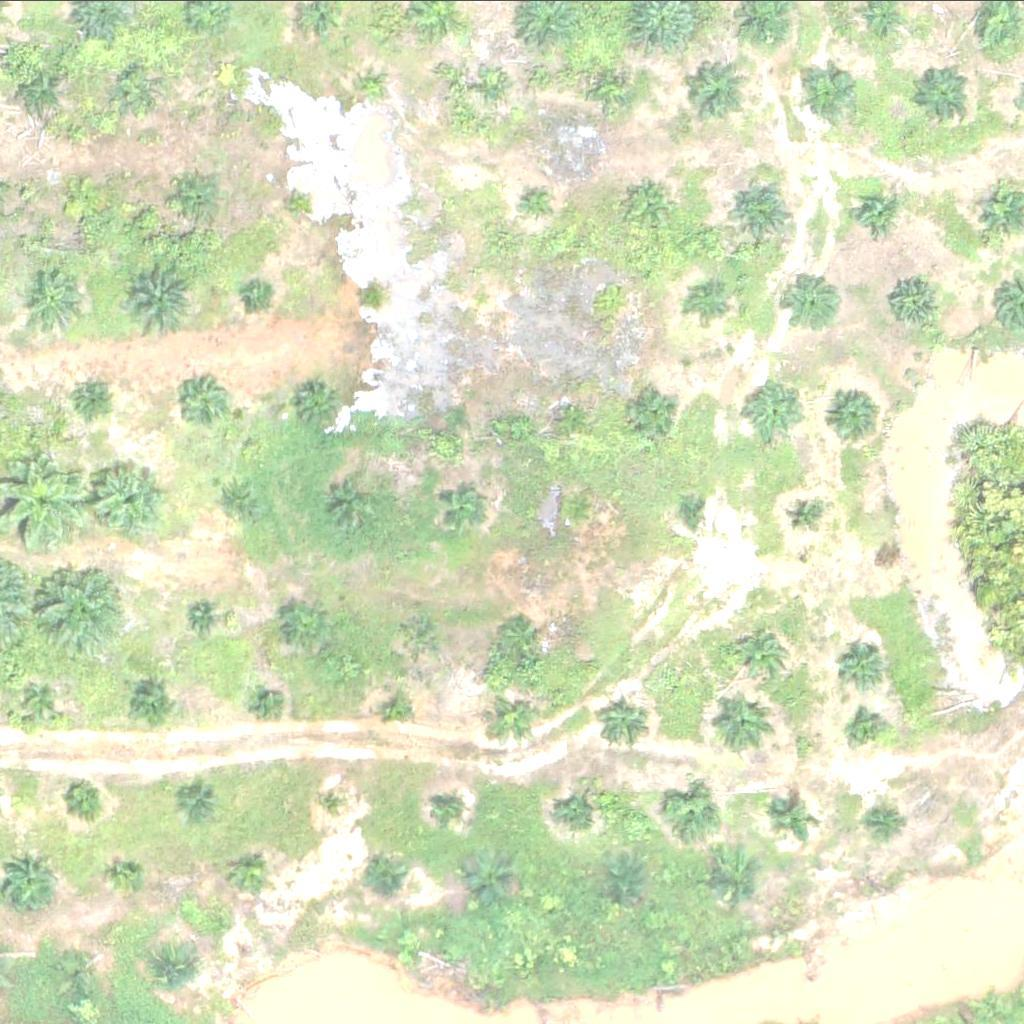Kelapa_Sawit: (86, 455, 174, 543), (35, 564, 123, 652), (122, 262, 198, 337), (683, 62, 746, 125), (729, 177, 792, 240), (730, 623, 793, 686), (24, 267, 87, 329), (826, 384, 889, 446), (744, 380, 807, 442), (1, 851, 64, 913), (712, 690, 775, 752), (495, 606, 546, 656), (788, 276, 839, 326), (889, 279, 940, 329), (853, 188, 904, 238), (625, 386, 676, 436), (15, 62, 66, 112), (109, 61, 160, 111), (55, 173, 106, 223), (489, 693, 540, 743), (228, 847, 279, 897), (808, 64, 858, 114), (918, 68, 968, 118), (176, 167, 226, 217), (560, 785, 610, 835), (669, 787, 719, 837), (602, 698, 652, 748), (838, 638, 888, 688), (182, 378, 232, 428), (296, 375, 346, 425), (435, 478, 485, 528), (328, 478, 378, 528), (214, 471, 264, 521), (284, 598, 334, 648), (124, 679, 174, 729), (468, 851, 518, 901), (15, 676, 65, 726), (719, 849, 769, 899), (694, 285, 732, 323), (774, 800, 812, 838), (865, 799, 903, 837), (848, 712, 886, 750), (369, 859, 407, 897), (637, 181, 675, 218), (785, 494, 823, 531), (561, 489, 598, 527), (406, 615, 443, 653), (113, 856, 150, 894), (607, 860, 645, 897), (59, 949, 96, 987), (61, 777, 99, 814), (555, 397, 593, 434), (185, 781, 222, 818), (157, 949, 194, 986), (245, 283, 271, 308), (601, 71, 627, 96), (356, 78, 381, 103), (484, 73, 509, 98), (527, 190, 552, 215), (283, 190, 308, 215), (682, 500, 707, 525), (255, 692, 280, 717), (385, 699, 410, 724), (324, 787, 349, 812), (436, 793, 461, 818), (81, 382, 106, 407), (472, 284, 497, 309), (191, 605, 216, 629)
